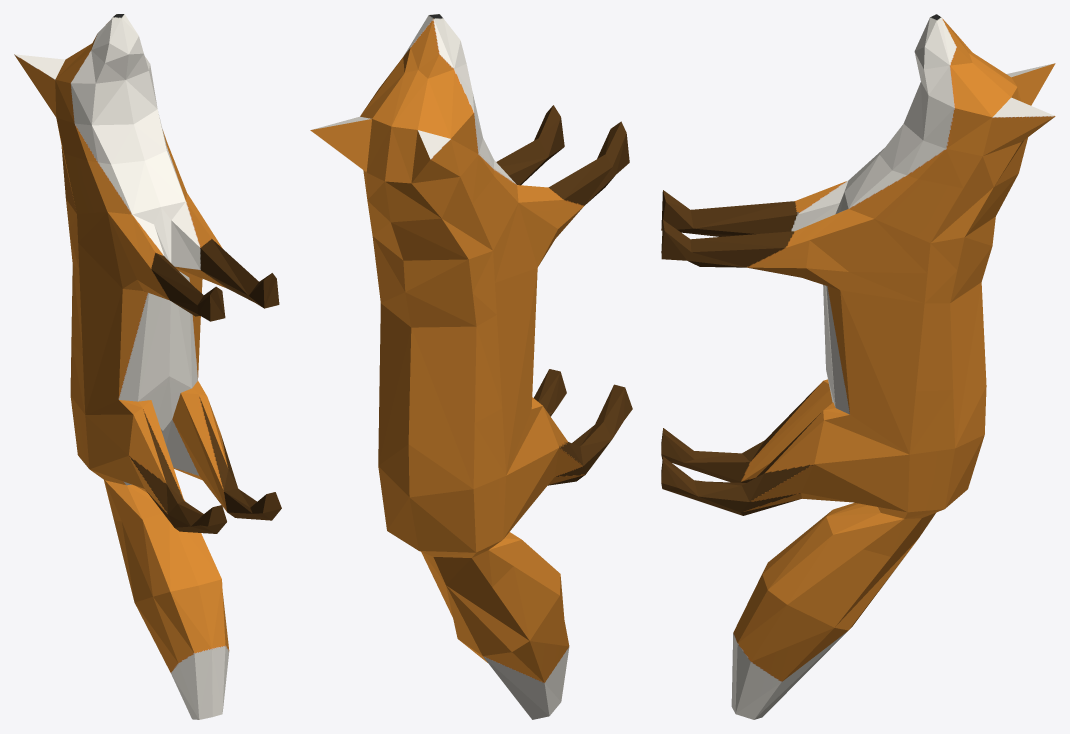
File: fox2.fbx
3 renders of one model, left to right at view 1: azimuth 30°, elevation 25°; view 2: azimuth 150°, elevation 25°; view 3: azimuth 270°, elevation 25°, orthographic. The views are drawn at different scales.
Visible parts, largest first — view 1: fox1; view 2: fox1; view 3: fox1.
Part boxes in pixels (x1,y1,x2,y2): fox1: [14, 14, 281, 719]; fox1: [310, 14, 632, 719]; fox1: [661, 14, 1055, 719].
Bounding box in the file's own units: 39.34 × 242 × 123.
Materials: 1 (1 with a texture image).
